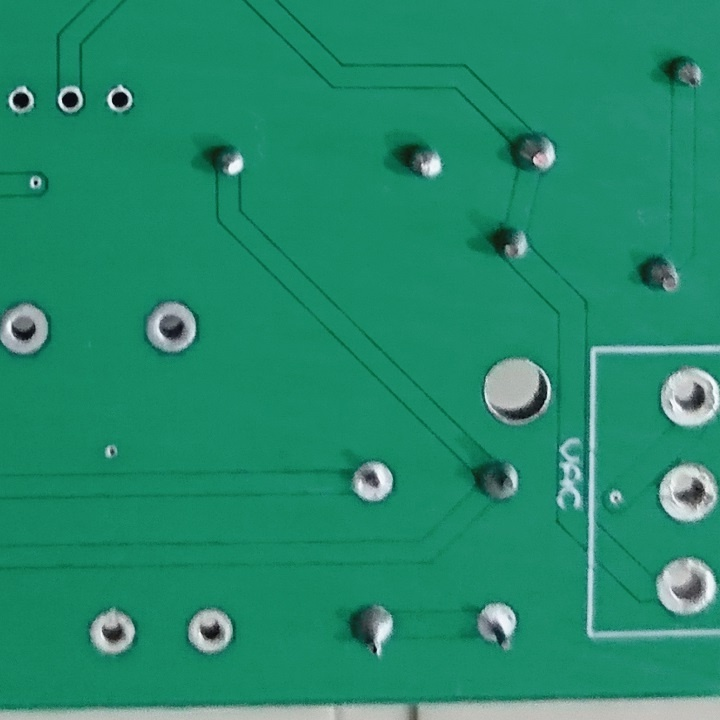F: (652, 554, 720, 618), (656, 362, 720, 429), (656, 460, 720, 526), (141, 298, 201, 359), (1, 300, 53, 362), (84, 607, 138, 664), (184, 604, 238, 660), (473, 600, 524, 655), (347, 458, 398, 511), (103, 81, 139, 119), (4, 81, 40, 118), (55, 83, 87, 118)
